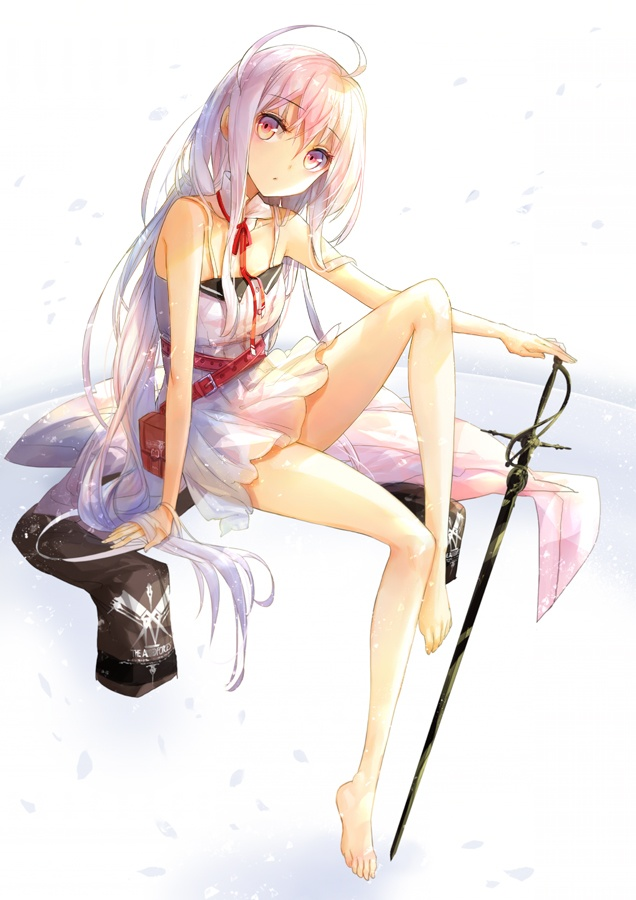纸片人正脸: (188, 24, 374, 214)
